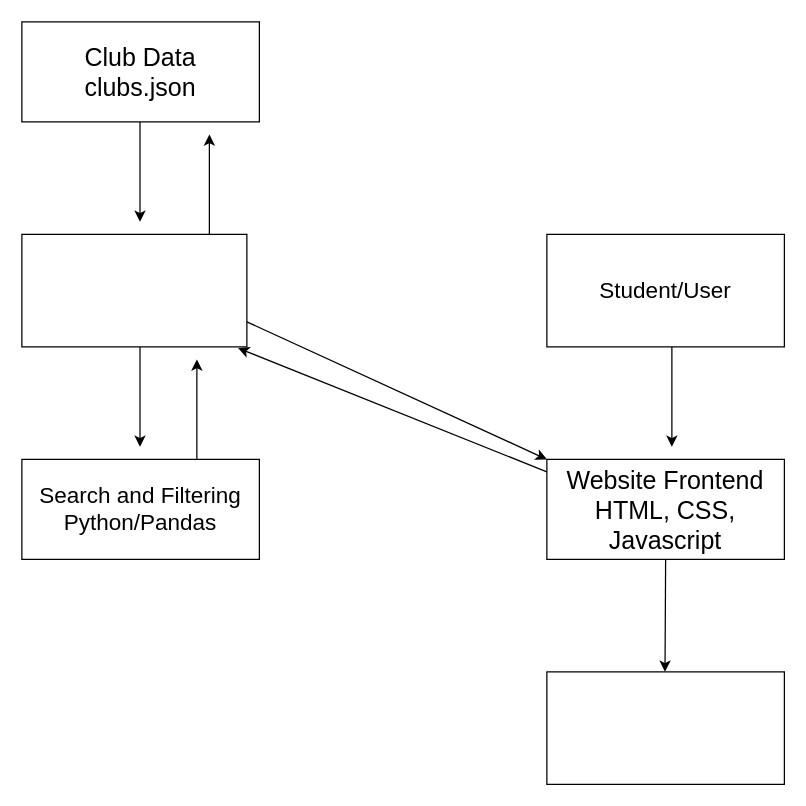
Some shapes in this 806 by 806 pixel diagram are drawn without their labels. Each missing label, with the centre of its shape:
"Display club results" goes at [665,727].
"Flask Application app.py" goes at [134,290].
